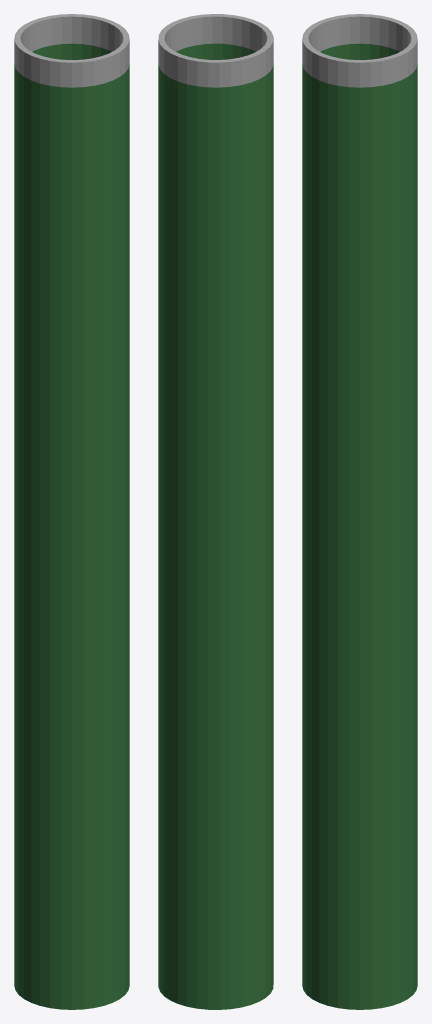
File: shaft.fbx
3 views of the same model, side by side, from view 1: azimuth 90°, elevation 25°; view 2: azimuth 150°, elevation 25°; view 3: azimuth 270°, elevation 25° (orthographic).
Parts seen in each view (by area): view 1: Cylinder; view 2: Cylinder; view 3: Cylinder.
Boxes of the visible parts, box(x1,y1,x2,y2) form: Cylinder: box(14, 14, 129, 1009); Cylinder: box(158, 14, 273, 1009); Cylinder: box(302, 14, 417, 1009).
Size of the model in its own units: 276 by 2500 by 276.
